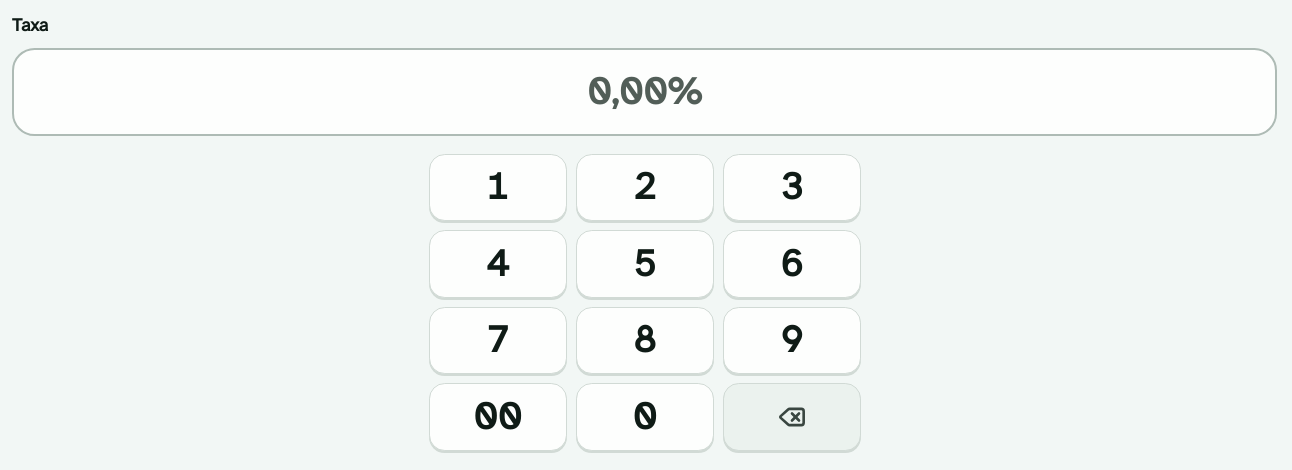
PercentInput › não passa de 99,99%
Step 1. Click the field labelled "Taxa" → (644, 92), box [12,48,1277,136]
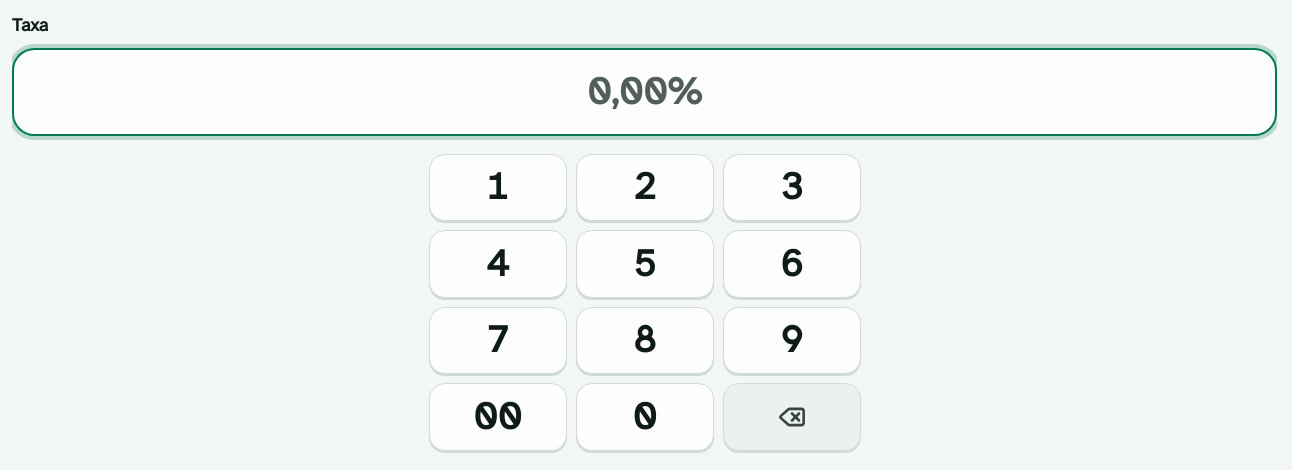
Step 2. Type keys "123456"
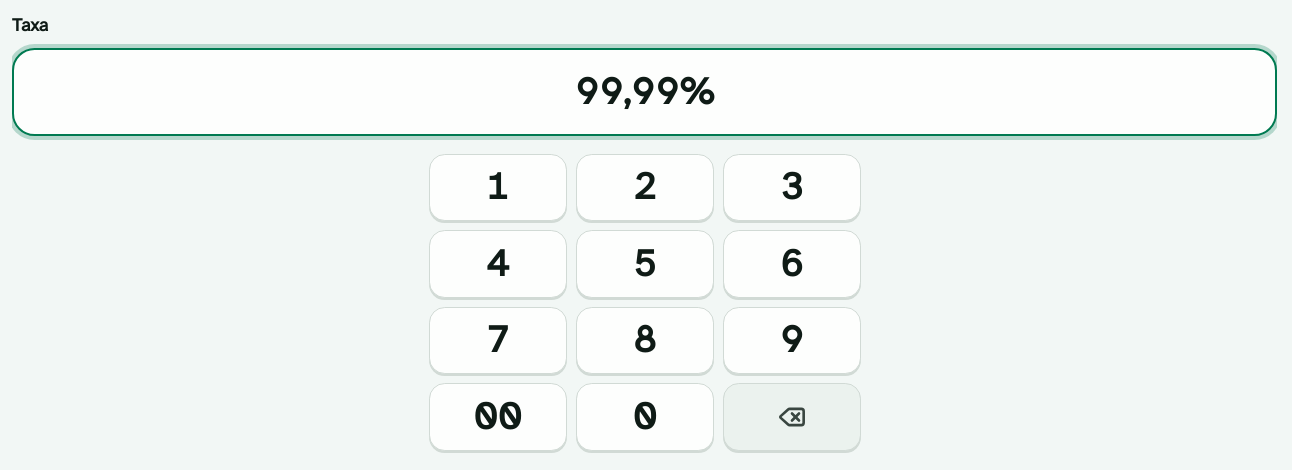
Expected: the field labelled "Taxa" holds "99,99%", [12,48,1277,136]
